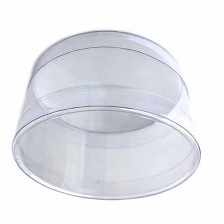plastic_box: (5, 24, 206, 207)
